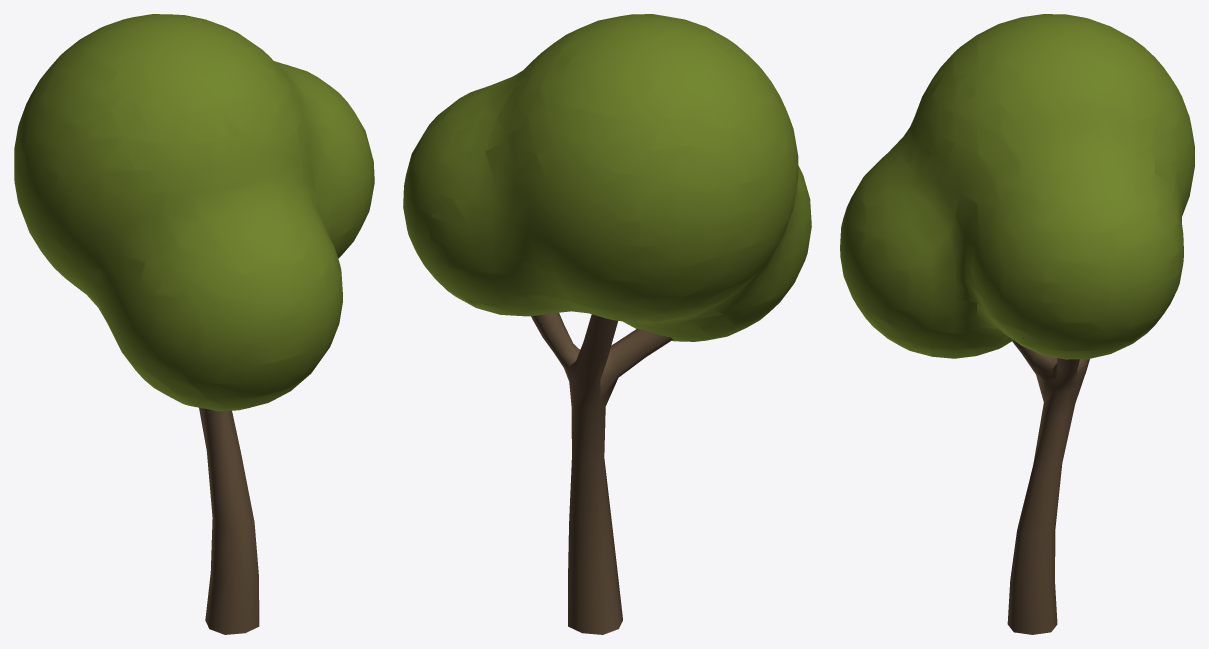
The model's file is tree1.glb.
3 views of the same model, side by side, from view 1: azimuth 30°, elevation 25°; view 2: azimuth 150°, elevation 25°; view 3: azimuth 270°, elevation 25° (orthographic). The views are drawn at different scales.
Parts seen in each view (by area): view 1: Tree_1; view 2: Tree_1; view 3: Tree_1.
Boxes of the visible parts, left/top/right/bottom form: Tree_1: left=14, top=14, right=374, bottom=634; Tree_1: left=403, top=14, right=811, bottom=634; Tree_1: left=840, top=14, right=1194, bottom=634.
Bounding box in the file's own units: 3.44 × 5.86 × 3.31.
